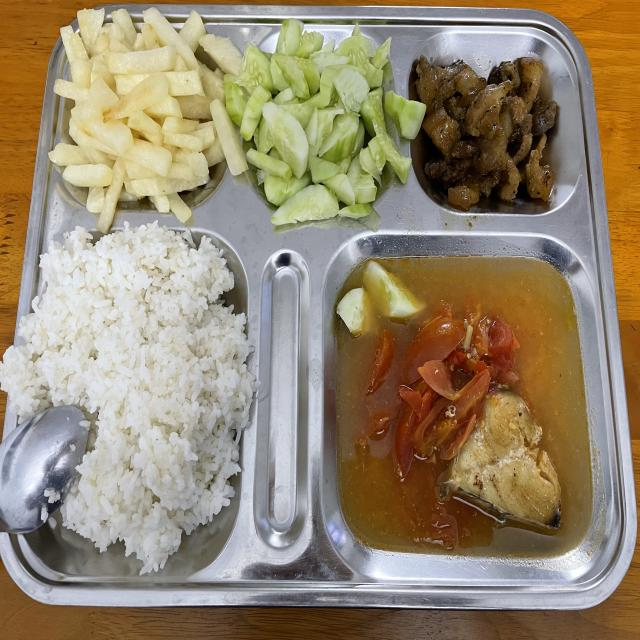ca_kho: (348, 274, 588, 548)
thit_kho: (419, 55, 558, 207)
